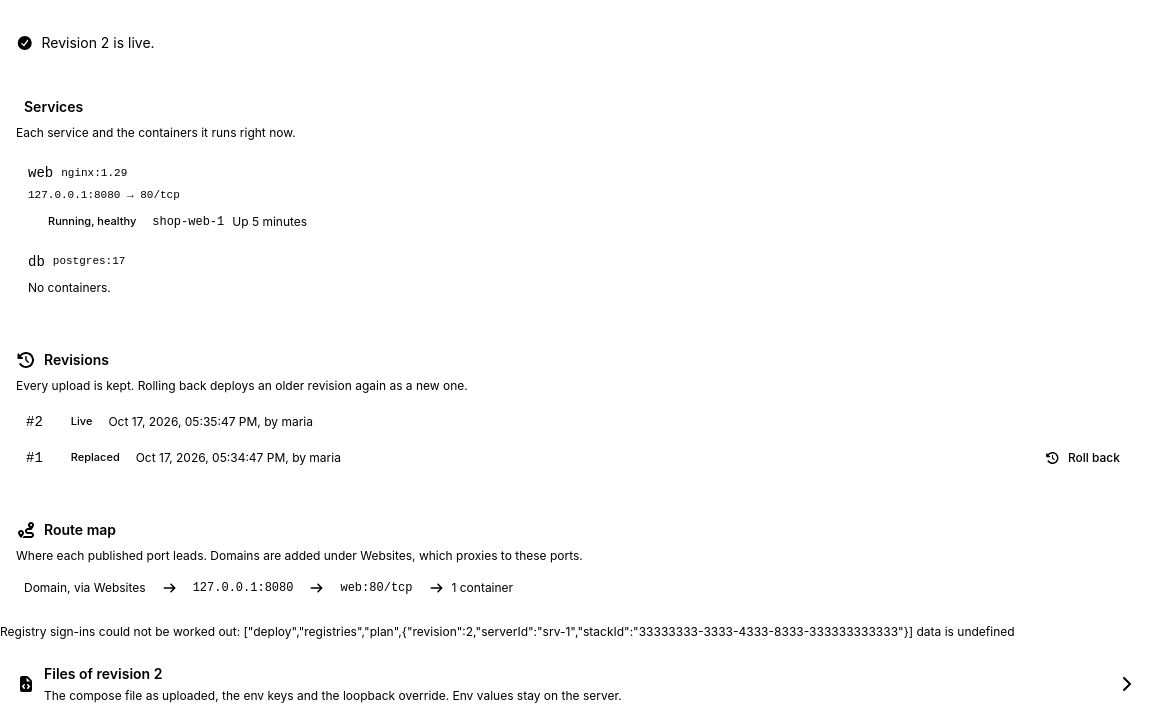
Test: AppDetail › follows the revision a rollback made
(page scrolled)
Click the button with aria-label "Roll back to revision 1" at {"x": 1082, "y": 458}, box top-left (1033, 444), bottom-right (1132, 472)
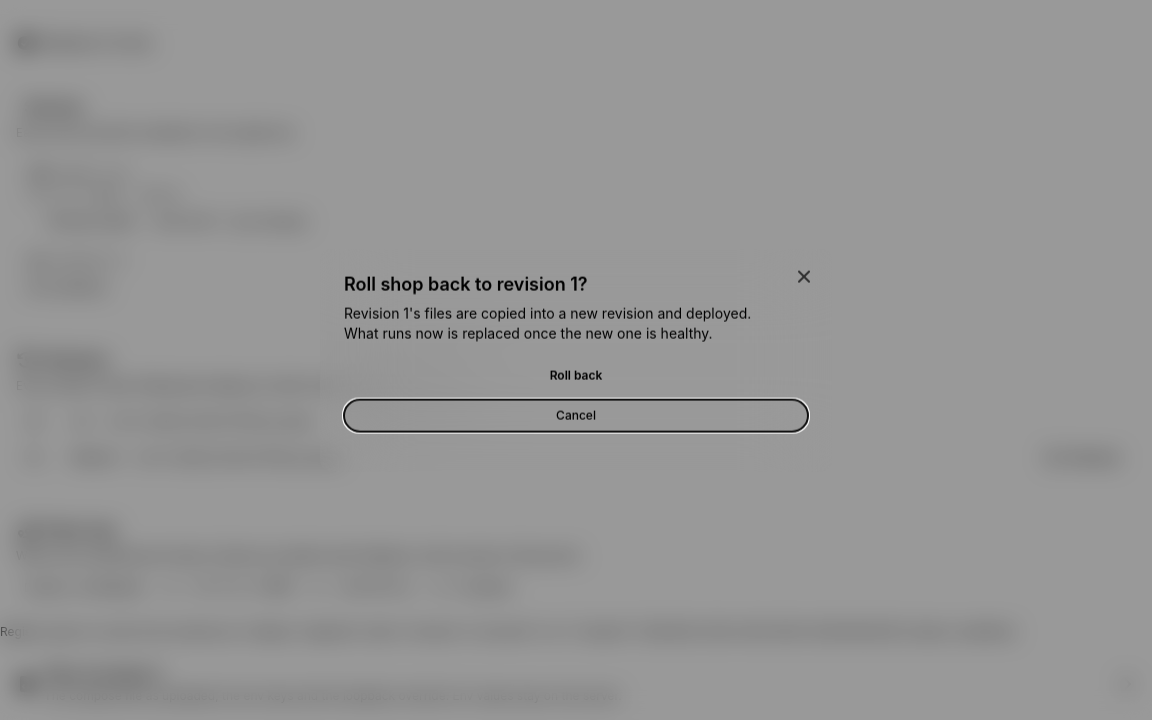
Click the button "Roll back" at {"x": 576, "y": 375}, box top-left (344, 359), bottom-right (808, 391)
(page scrolled)
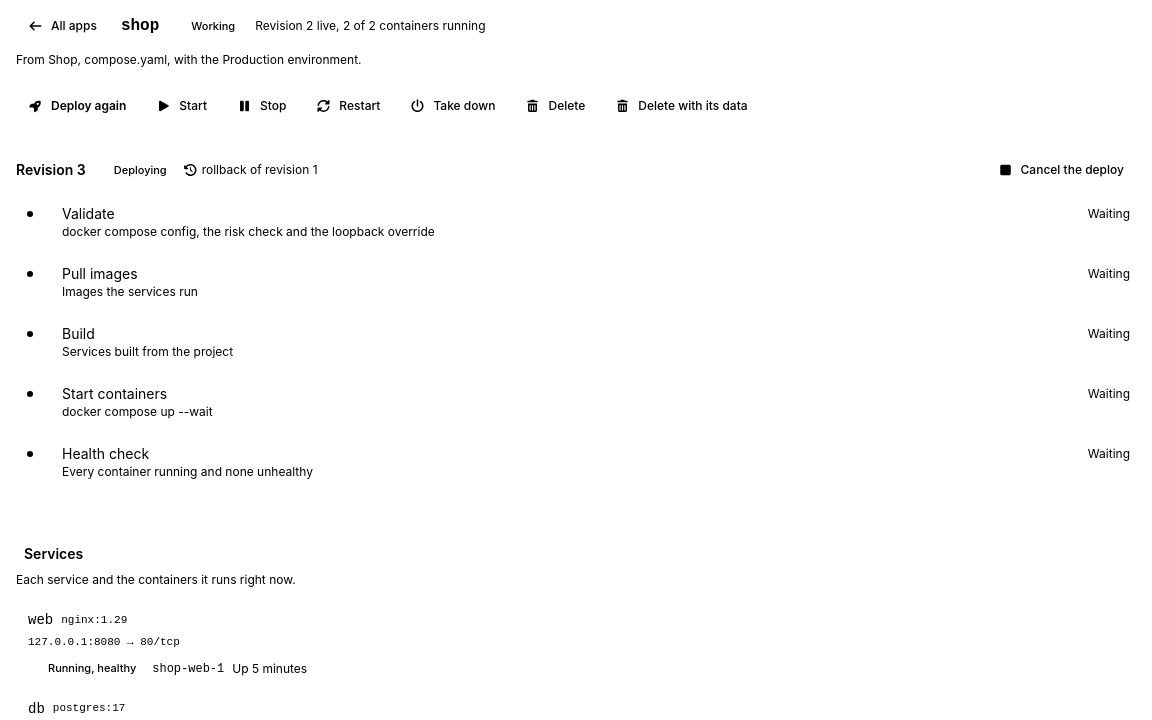
Check: the element named "Deploy of revision 3" is shown, box top-left (0, 140), bottom-right (1151, 516)
Check: the text "rollback of revision 1" is shown, box top-left (183, 162), bottom-right (318, 178)
